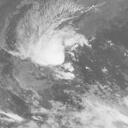cyclone: (40, 36, 66, 67)
